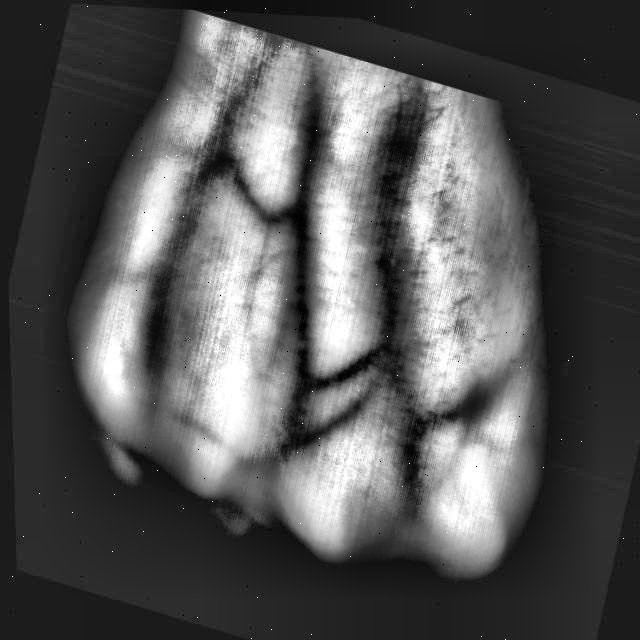Vein: (287, 133, 326, 353)
